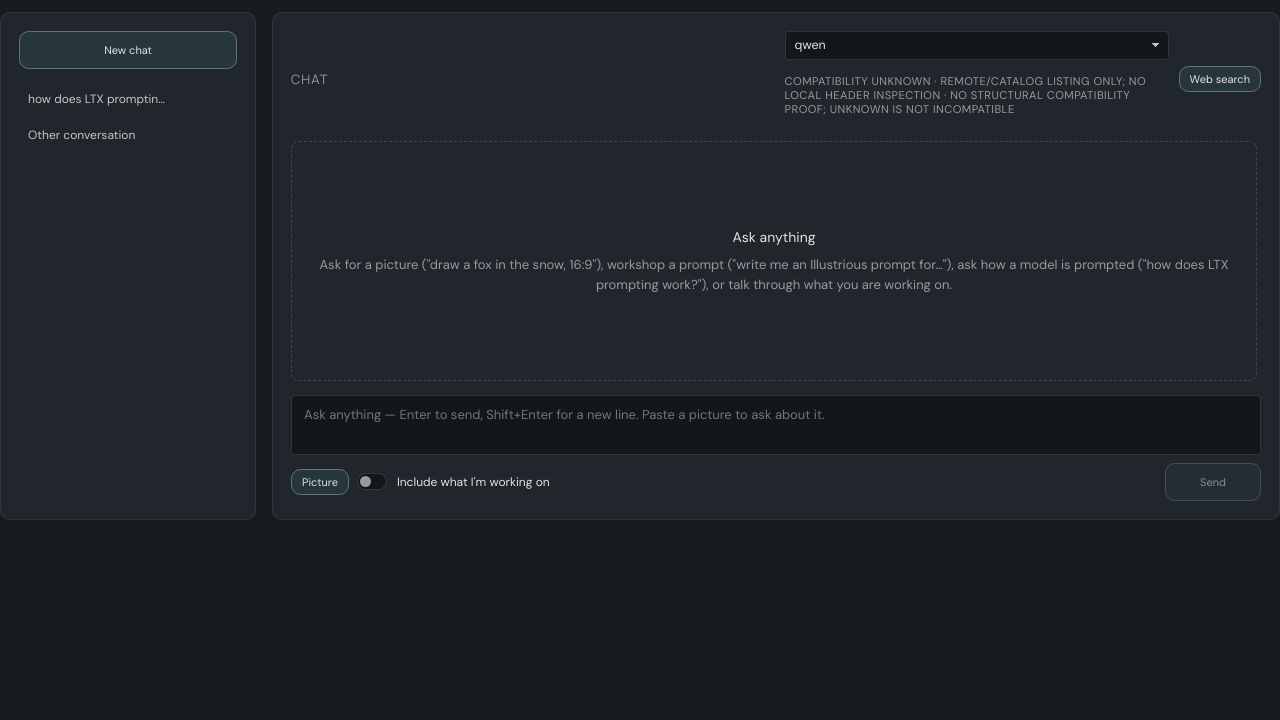
ignores a pending history result after older open
Later steps or results of the test are not shown.
Click the button "how does LTX prompting work?" at (100,99), box [20,84,180,114]
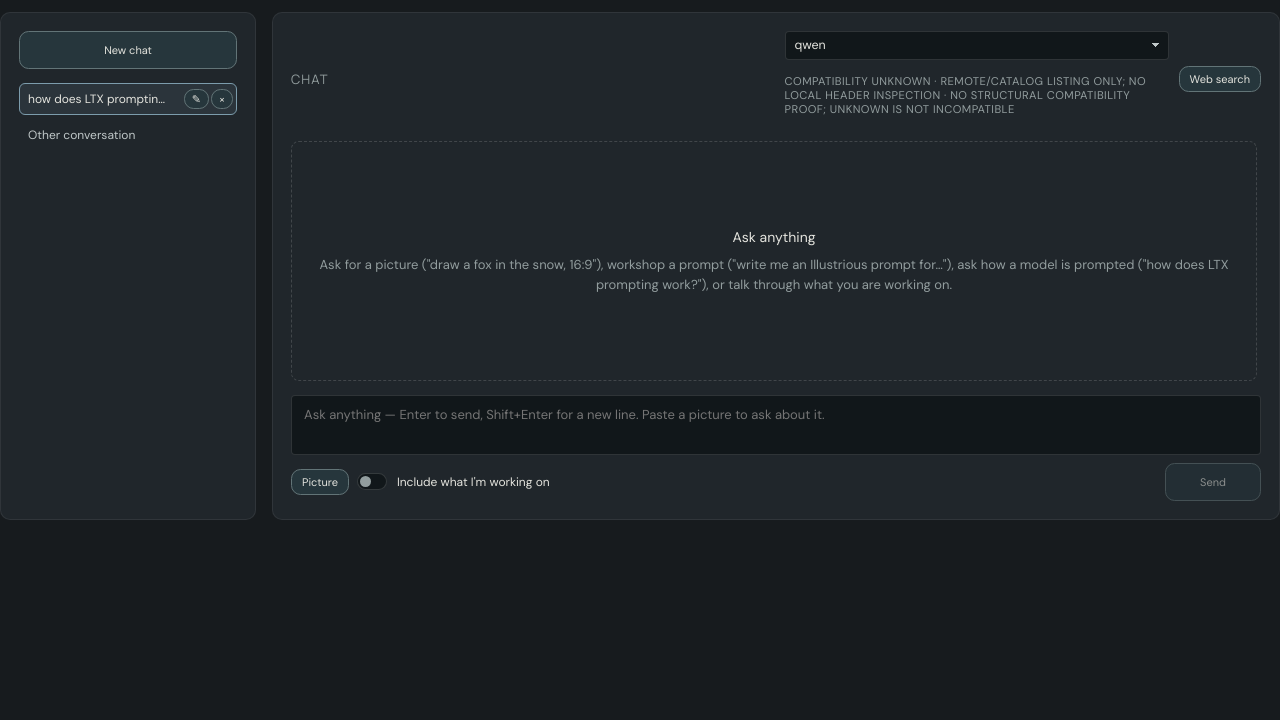
Click the button "Other conversation" at (100,135), box [20,120,180,150]
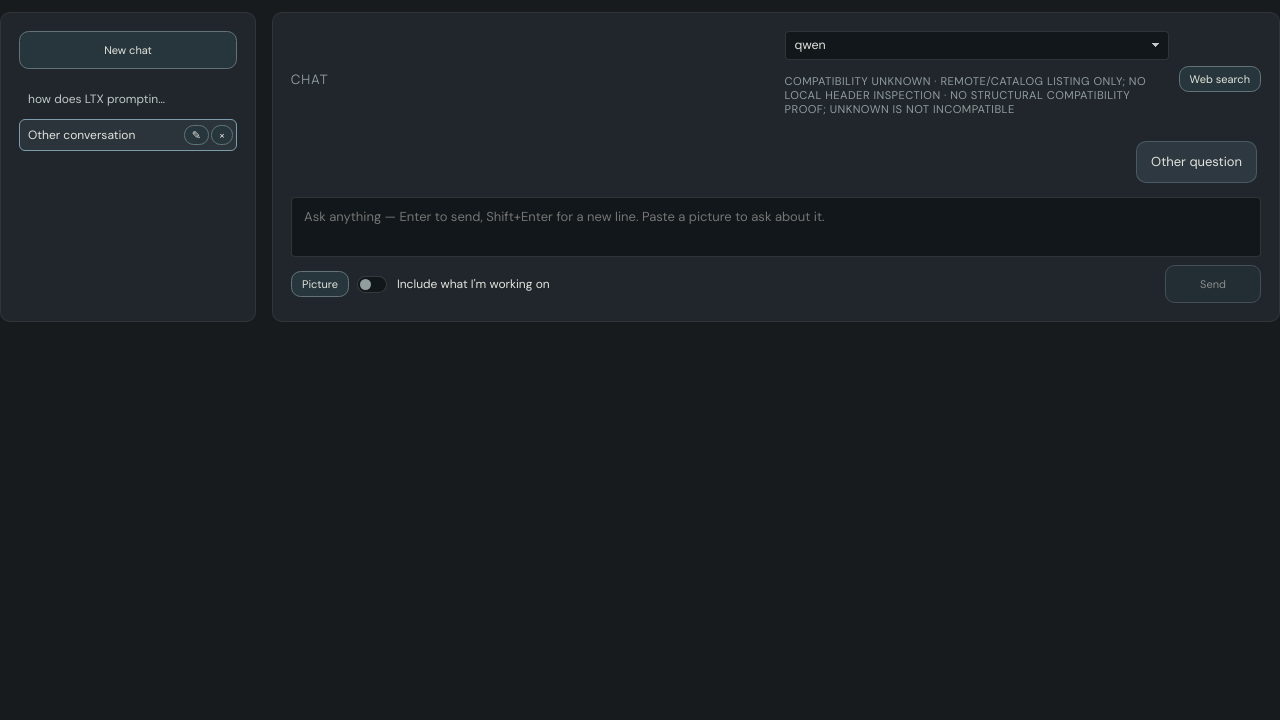
Now the text "Other question" is shown, box [1151,152,1242,172]
Replace the text in the text box named "Message" with "new question" at (776,227), box [291,197,1261,257]
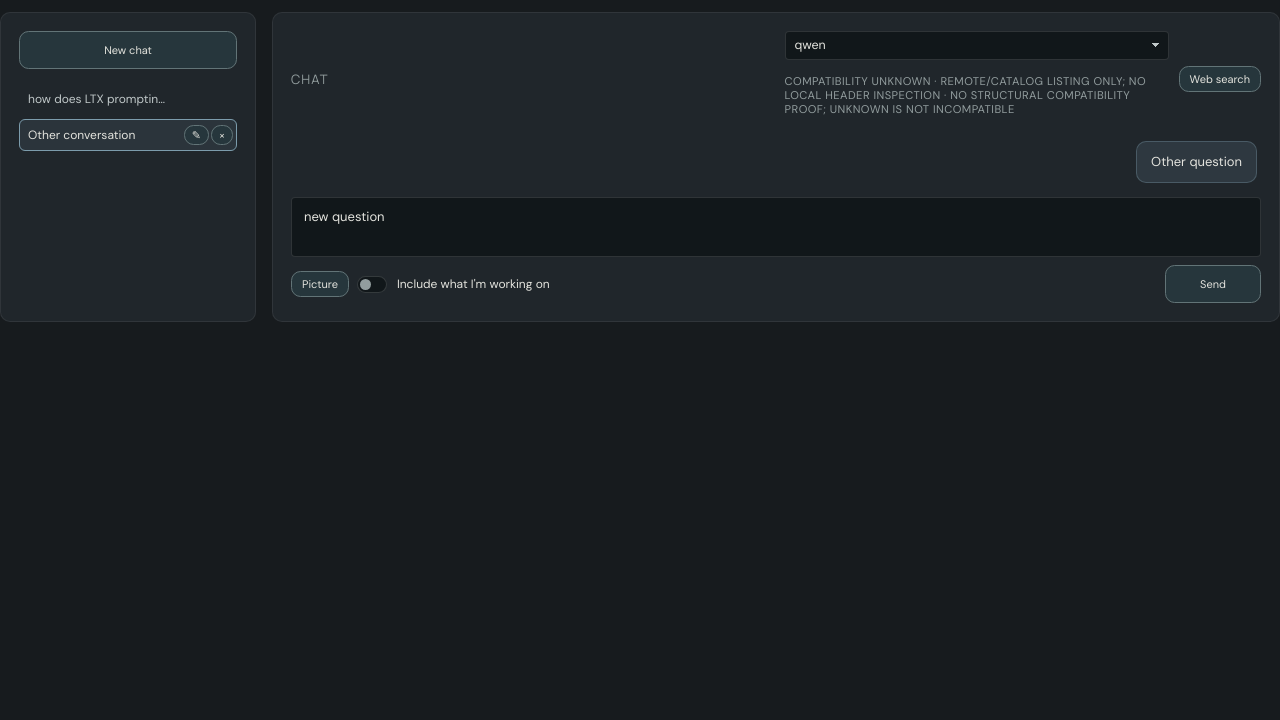
Now the button "Send" is enabled, box [1165,265,1261,303]
